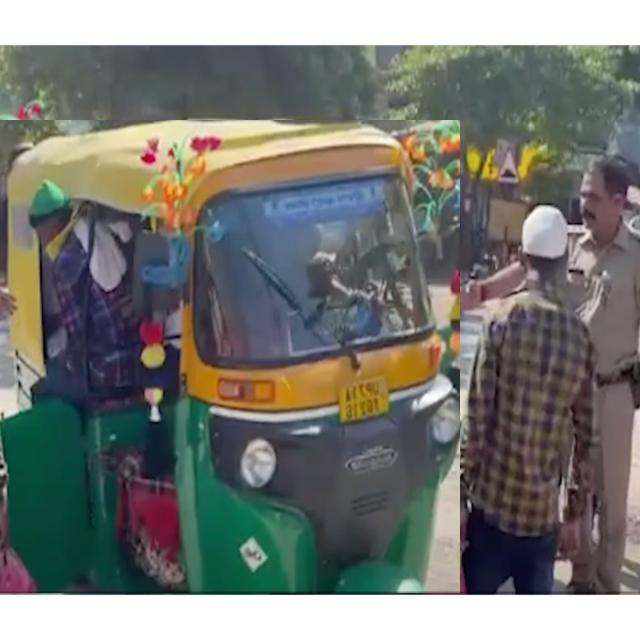autorickshaw: (0, 120, 460, 593)
